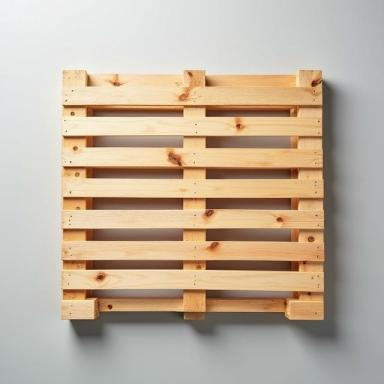pallet: (61, 69, 325, 321)
